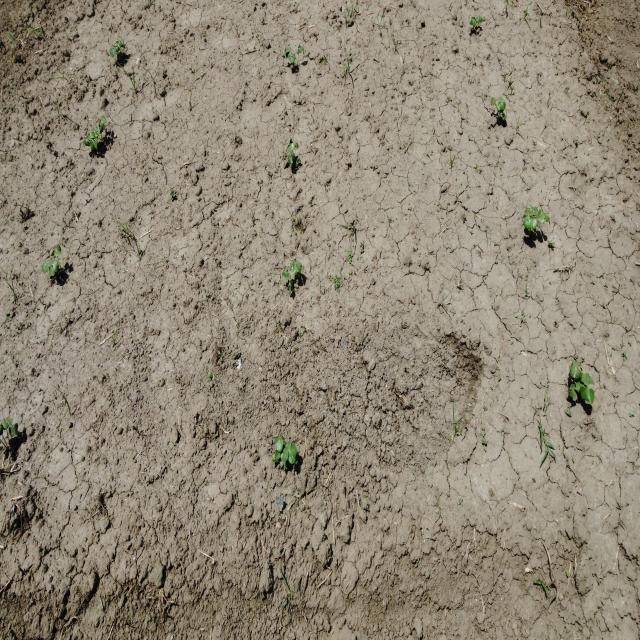seedling_s3: (580, 386, 595, 402), (569, 364, 583, 379), (282, 441, 291, 462), (42, 258, 53, 274), (289, 443, 297, 463), (524, 217, 537, 229), (582, 373, 595, 385), (9, 423, 19, 438), (1, 419, 12, 430), (567, 388, 577, 400), (275, 435, 282, 452), (51, 260, 58, 273), (538, 210, 545, 223), (90, 130, 99, 140), (272, 451, 280, 462), (287, 143, 295, 153), (576, 380, 584, 390), (55, 244, 61, 257), (296, 261, 302, 273), (280, 433, 286, 445), (497, 102, 506, 110), (292, 261, 297, 275), (289, 154, 295, 165), (525, 210, 536, 216), (282, 272, 290, 280), (85, 137, 92, 146), (469, 17, 476, 26), (570, 385, 579, 392), (91, 140, 97, 150), (543, 212, 549, 222), (110, 47, 116, 56), (101, 115, 107, 124), (285, 46, 291, 55), (50, 265, 54, 276), (491, 99, 497, 106), (289, 57, 295, 63), (285, 266, 291, 272), (477, 16, 483, 22), (115, 41, 122, 46), (290, 53, 296, 58), (289, 154, 292, 163), (298, 47, 302, 53), (285, 53, 289, 58), (116, 46, 119, 52)
